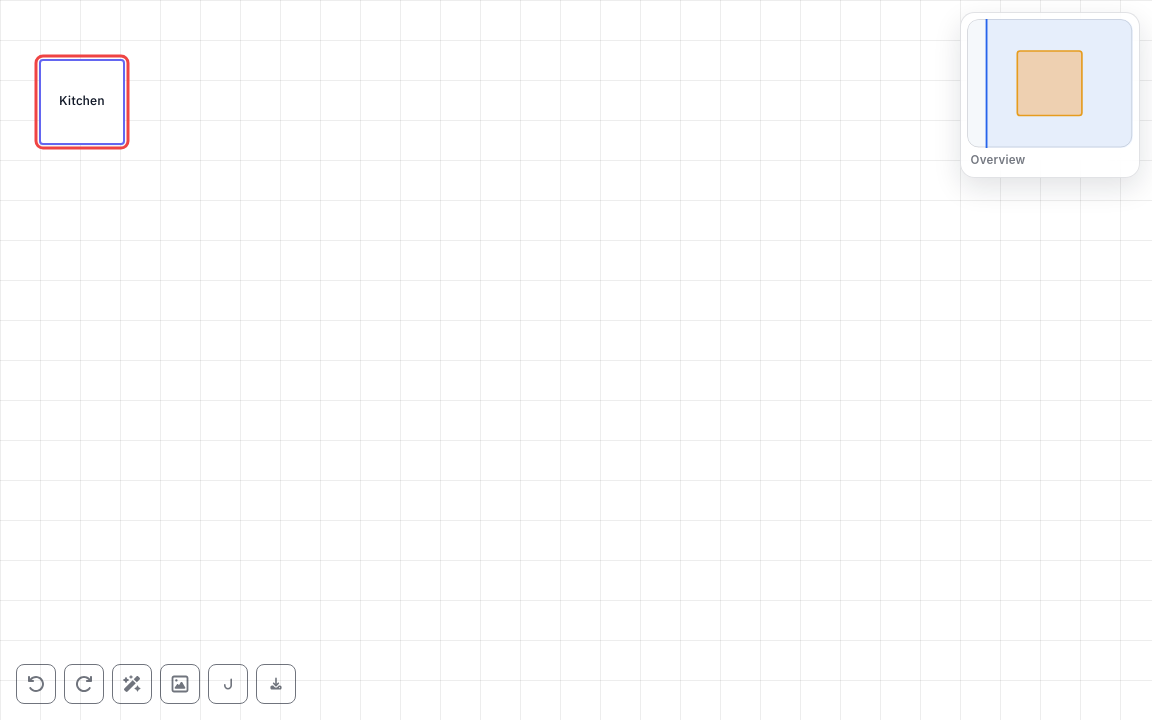
Test case: MapCanvas export flow › opens the export dialog in selection scope when there is a selection
The image size is (1152, 720).
Click the button named "Export PNG" at coordinates (276, 684), box [256,664,296,704]
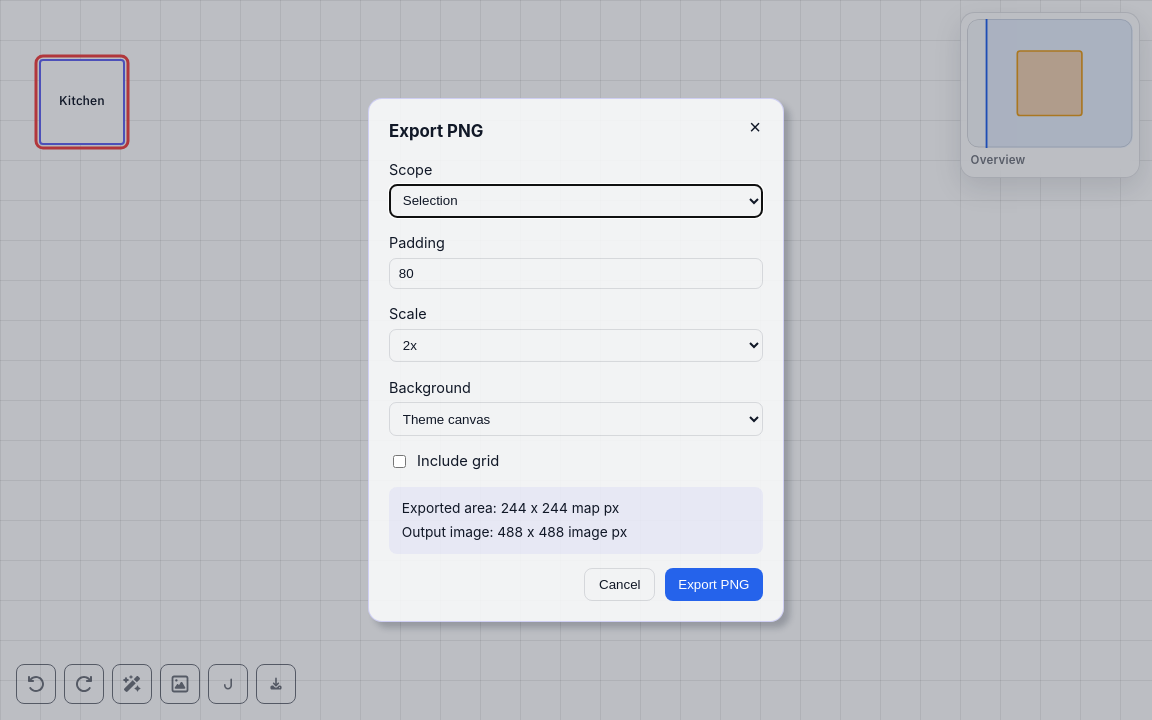
Result: the dropdown labelled "Scope" shows "Selection" at [389,184,763,218]
